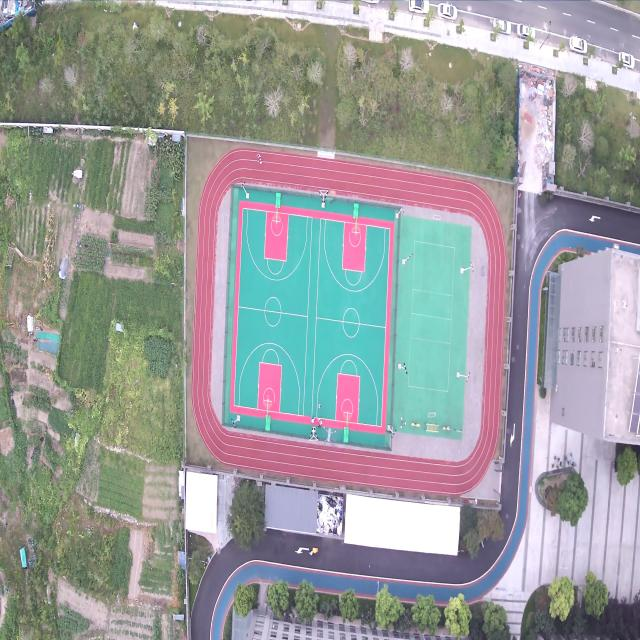drone: (322, 425, 336, 443)
